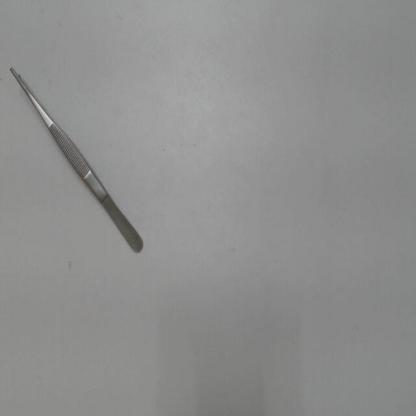Gillies Toothed Dissector: (3, 60, 152, 265)
